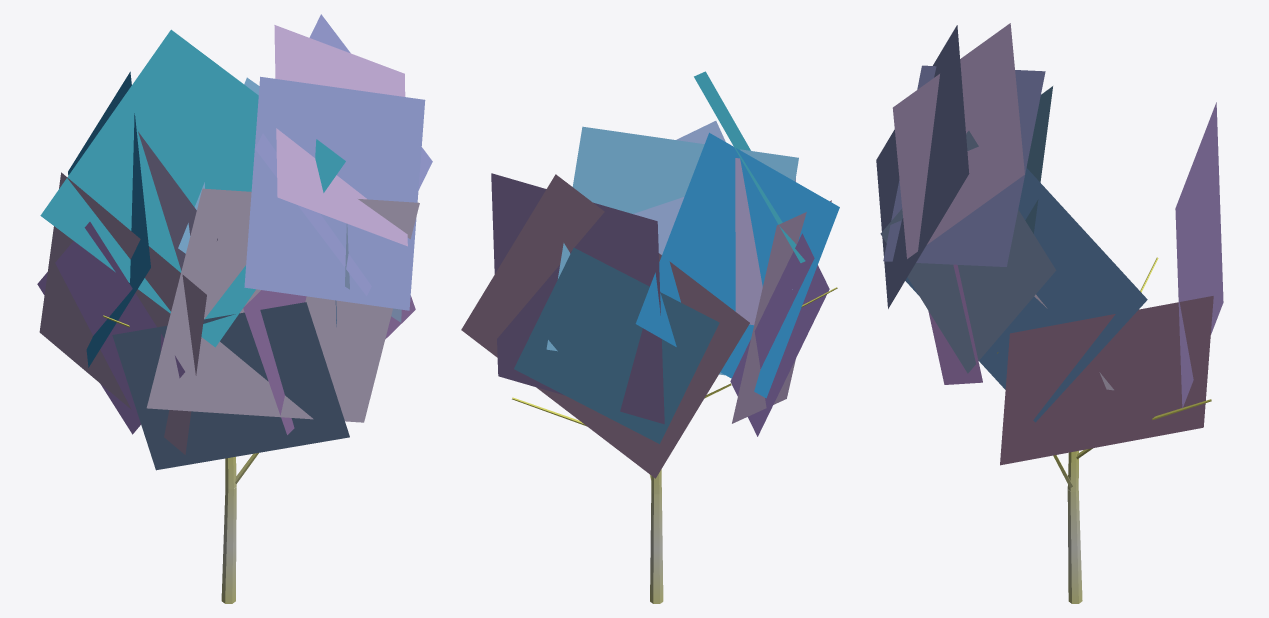
Rendered from tree_birch_0.glb.
3 renders of one model, left to right at view 1: azimuth 30°, elevation 25°; view 2: azimuth 150°, elevation 25°; view 3: azimuth 270°, elevation 25°, orthographic. The views are drawn at different scales.
Visible parts, largest first — view 1: tree_birch_0; view 2: tree_birch_0; view 3: tree_birch_0.
Part boxes in pixels (x1,y1,x2,y2): tree_birch_0: (37, 14, 432, 603); tree_birch_0: (461, 71, 839, 603); tree_birch_0: (876, 23, 1223, 603).
Bounding box in the file's own units: 6.76 × 11.36 × 6.67.
